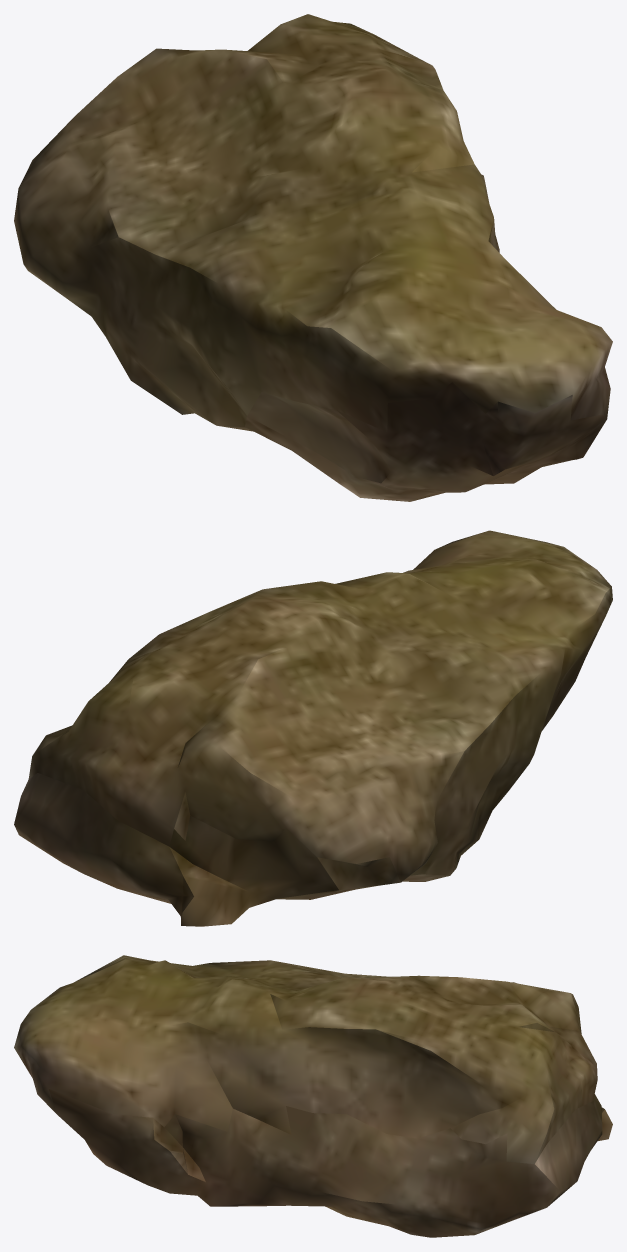
The model's file is rock_set_5.glb.
3 views of the same model, one above another, from view 1: azimuth 30°, elevation 25°; view 2: azimuth 150°, elevation 25°; view 3: azimuth 270°, elevation 25° (orthographic). The views are drawn at different scales.
Parts seen in each view (by area): view 1: rock_set_5; view 2: rock_set_5; view 3: rock_set_5.
Boxes of the visible parts, x1,y1,x2,y2 form: rock_set_5: (14, 14, 612, 501); rock_set_5: (14, 530, 612, 926); rock_set_5: (14, 955, 612, 1237).
Size of the model in its own units: 1.81 by 1.21 by 3.
1 material, 1 textured.
